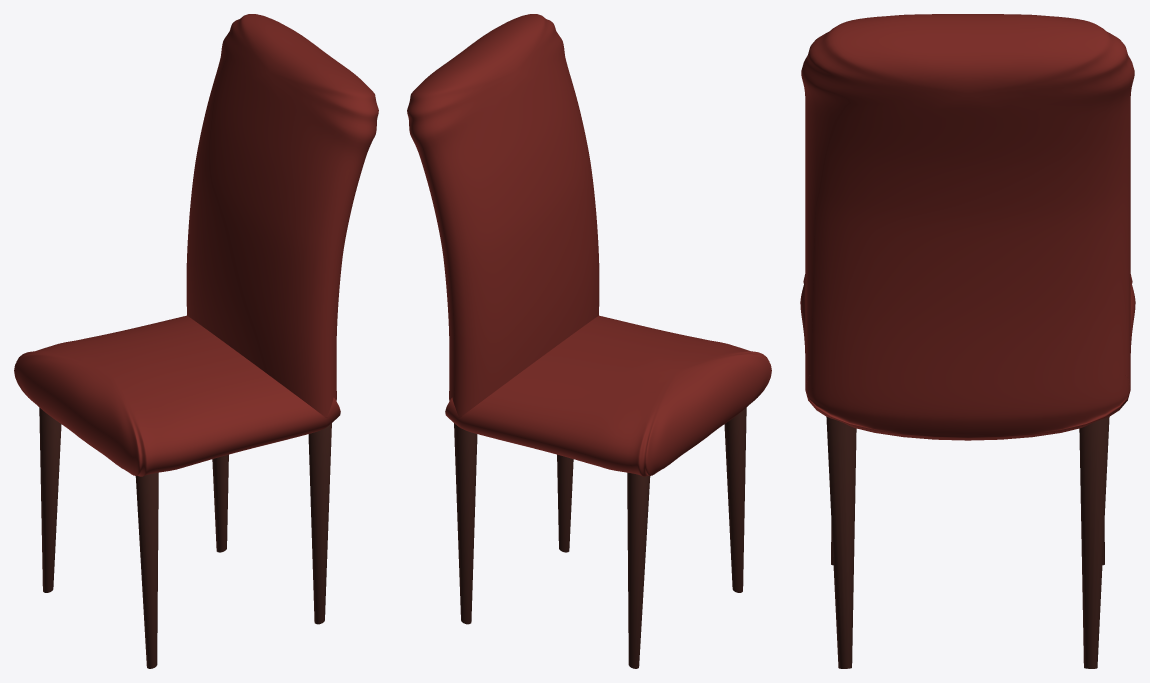
File: SILLA.fbx
3 renders of one model, left to right at view 1: azimuth 30°, elevation 25°; view 2: azimuth 150°, elevation 25°; view 3: azimuth 270°, elevation 25°, orthographic. The views are drawn at different scales.
Visible parts, largest first — view 1: Plane.001, Cylinder.001, Cylinder.002; view 2: Plane.001, Cylinder.001, Cylinder.002; view 3: Plane.001, Cylinder.002.
Part boxes in pixels (<box>): Plane.001: <box>14,14,378,476</box>; Cylinder.001: <box>39,407,158,668</box>; Cylinder.002: <box>212,423,331,624</box>; Plane.001: <box>407,14,771,476</box>; Cylinder.001: <box>627,407,746,668</box>; Cylinder.002: <box>454,423,573,624</box>; Plane.001: <box>800,14,1135,440</box>; Cylinder.002: <box>826,417,1109,668</box>.
Bounding box in the file's own units: 29.86 × 57.96 × 26.4.
